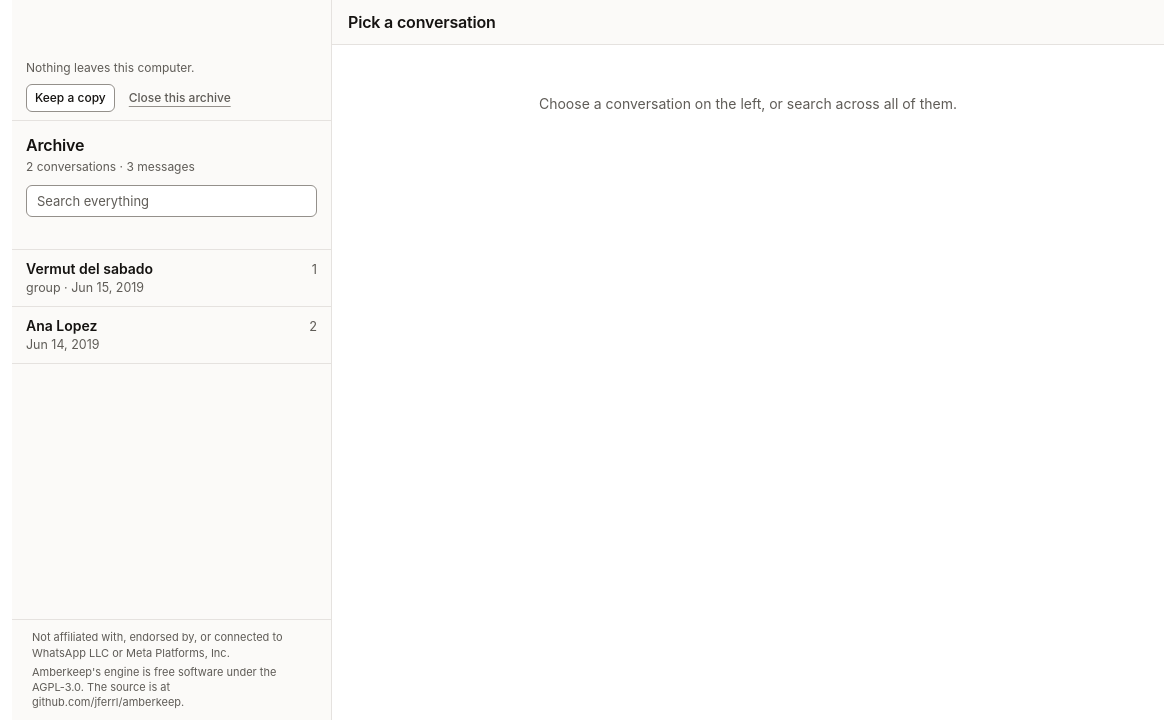
Test: searching › finds a message and marks the words that matched
The width and height of the screenshot is (1164, 720).
Type "up" into the search field labelled "Search everything".
click(172, 201); type("up")  # box [26, 185, 317, 217]
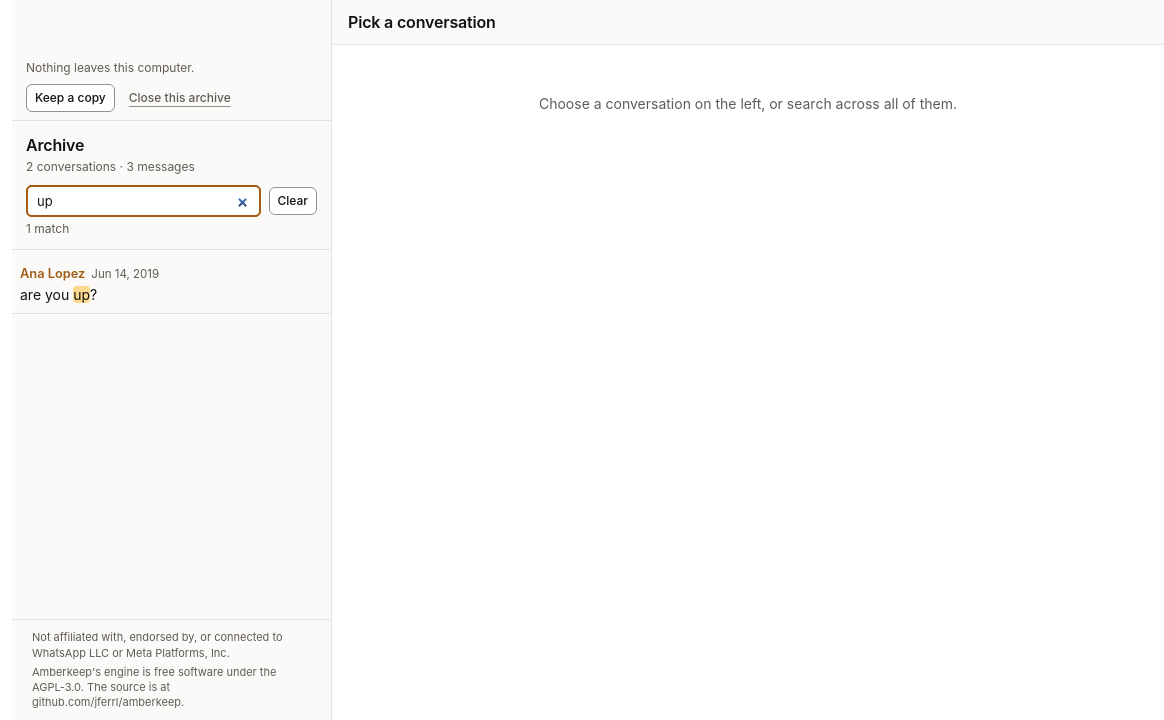
Check: the text "up" is shown, box [73, 286, 90, 303]
Check: the text "1 match" is shown, box [26, 221, 69, 236]
